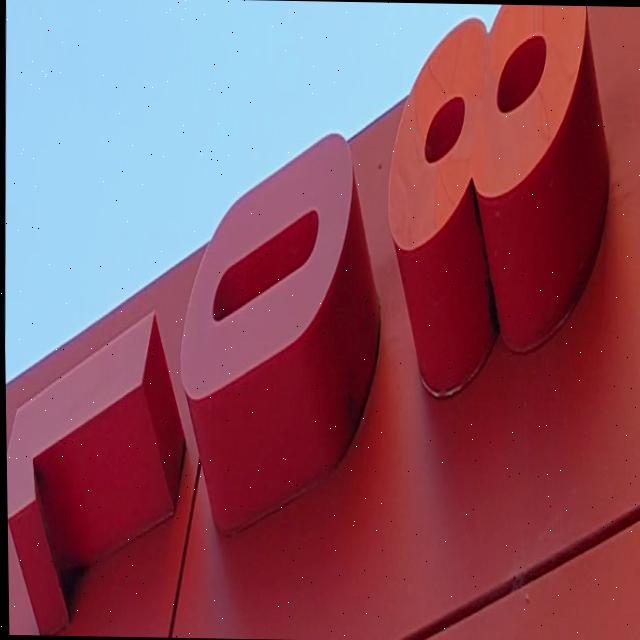character: (374, 1, 601, 287), (171, 109, 371, 430), (4, 280, 167, 543)
